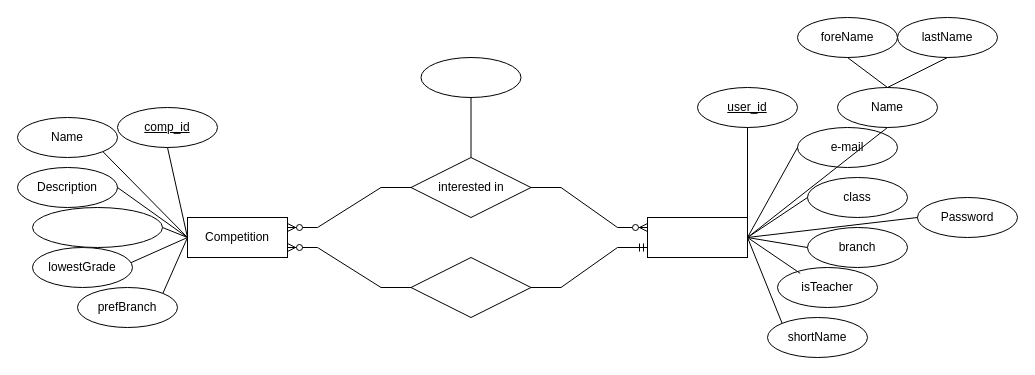
Image size: 1035x375. Some labels were removed from this diagram. The centre of each missing label's shape, as x and y in pixels:
is contact: (x=470, y=287)
lastRegistrationDate: (x=97, y=227)
signed up on: (x=470, y=77)
User: (x=697, y=237)
